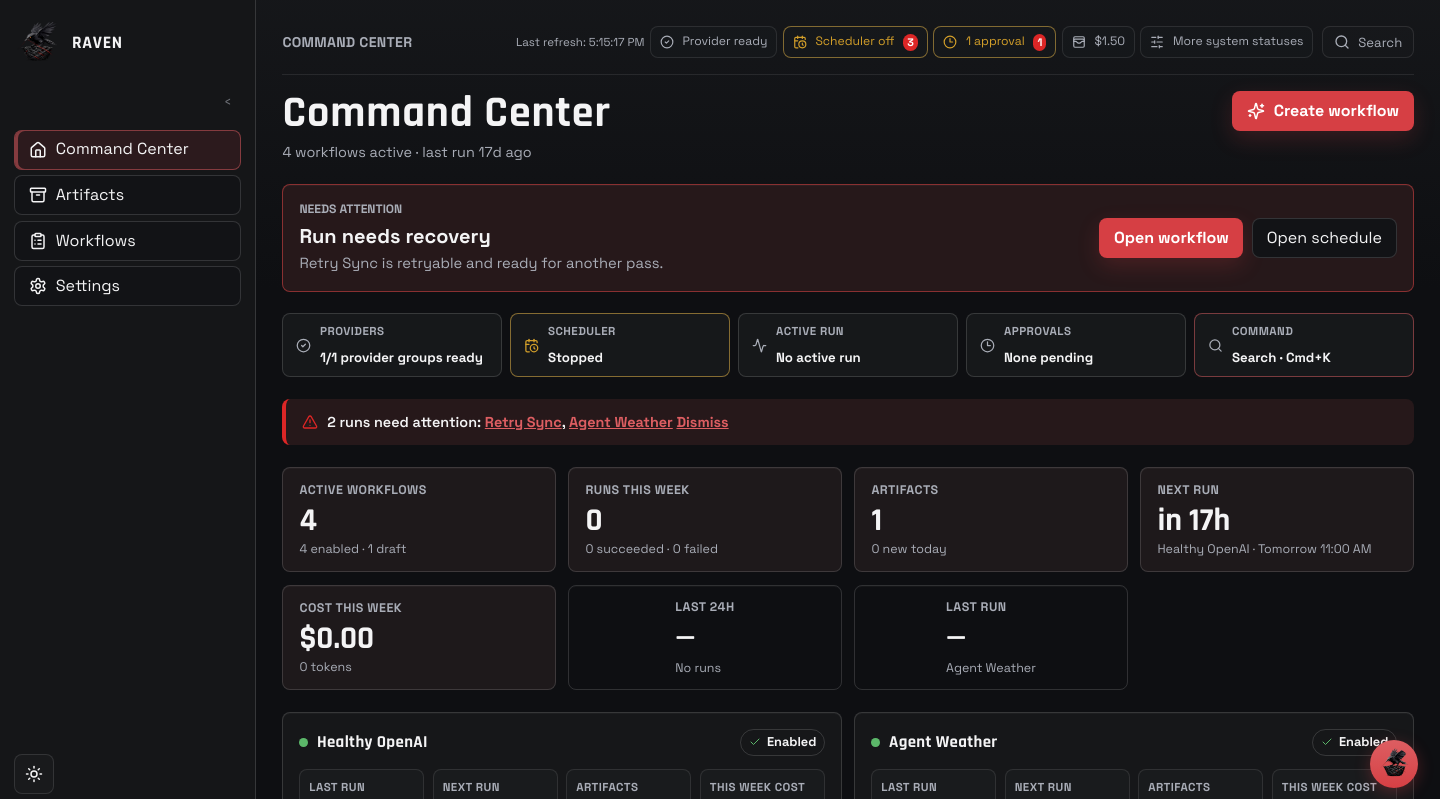
Scenario: Raven app shell › shows persisted approval-blocked runs in the top approval status
Click the button with aria-label "approval status: 1 pending" at {"x": 995, "y": 42}, box [933, 26, 1056, 58]
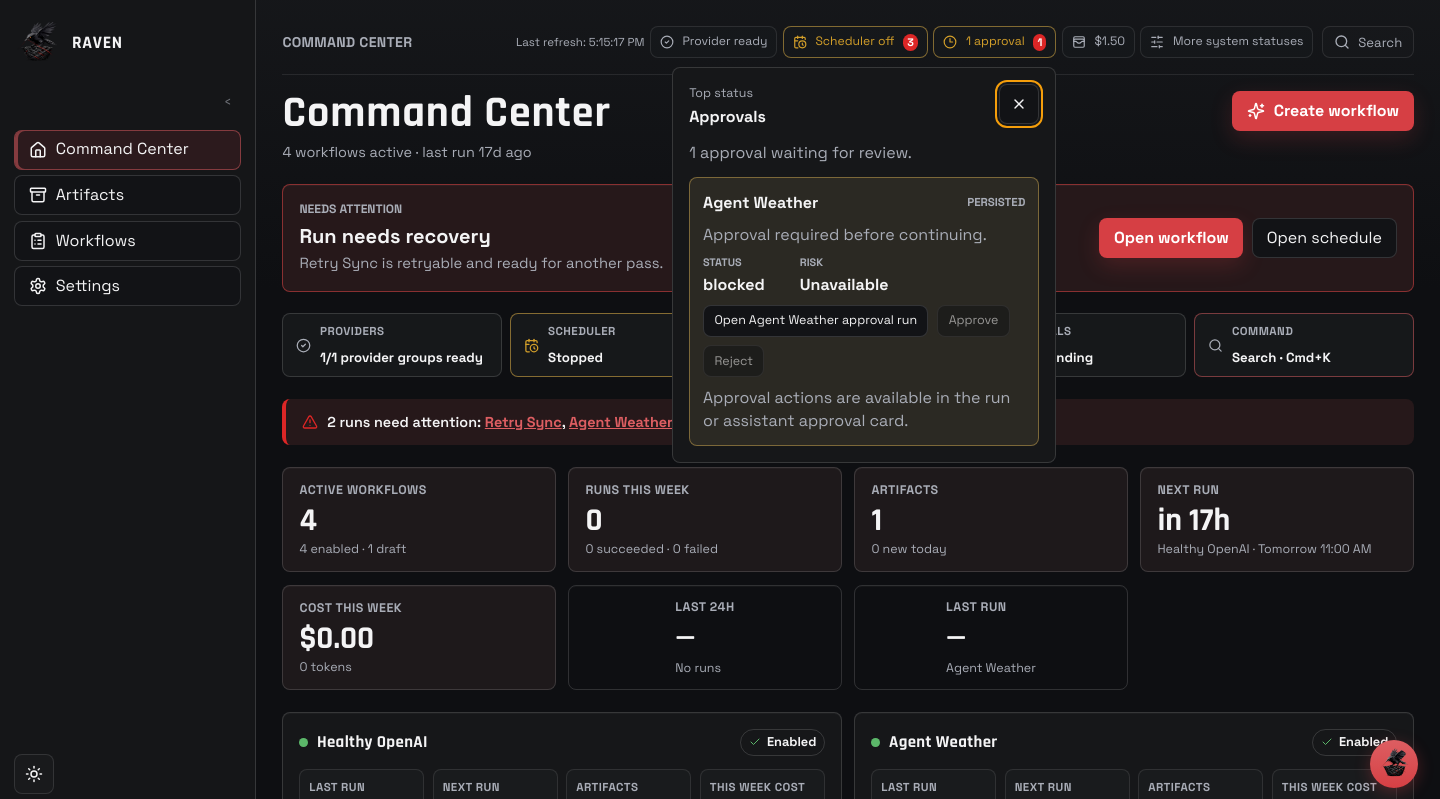
Result: the dialog named "Approvals details" shows "Agent Weather" at [703, 192, 818, 213]
Result: the dialog named "Approvals details" shows "Approval required before continuing." at [703, 224, 987, 245]
Result: the button "Open Agent Weather approval run" is shown at [703, 304, 928, 336]
